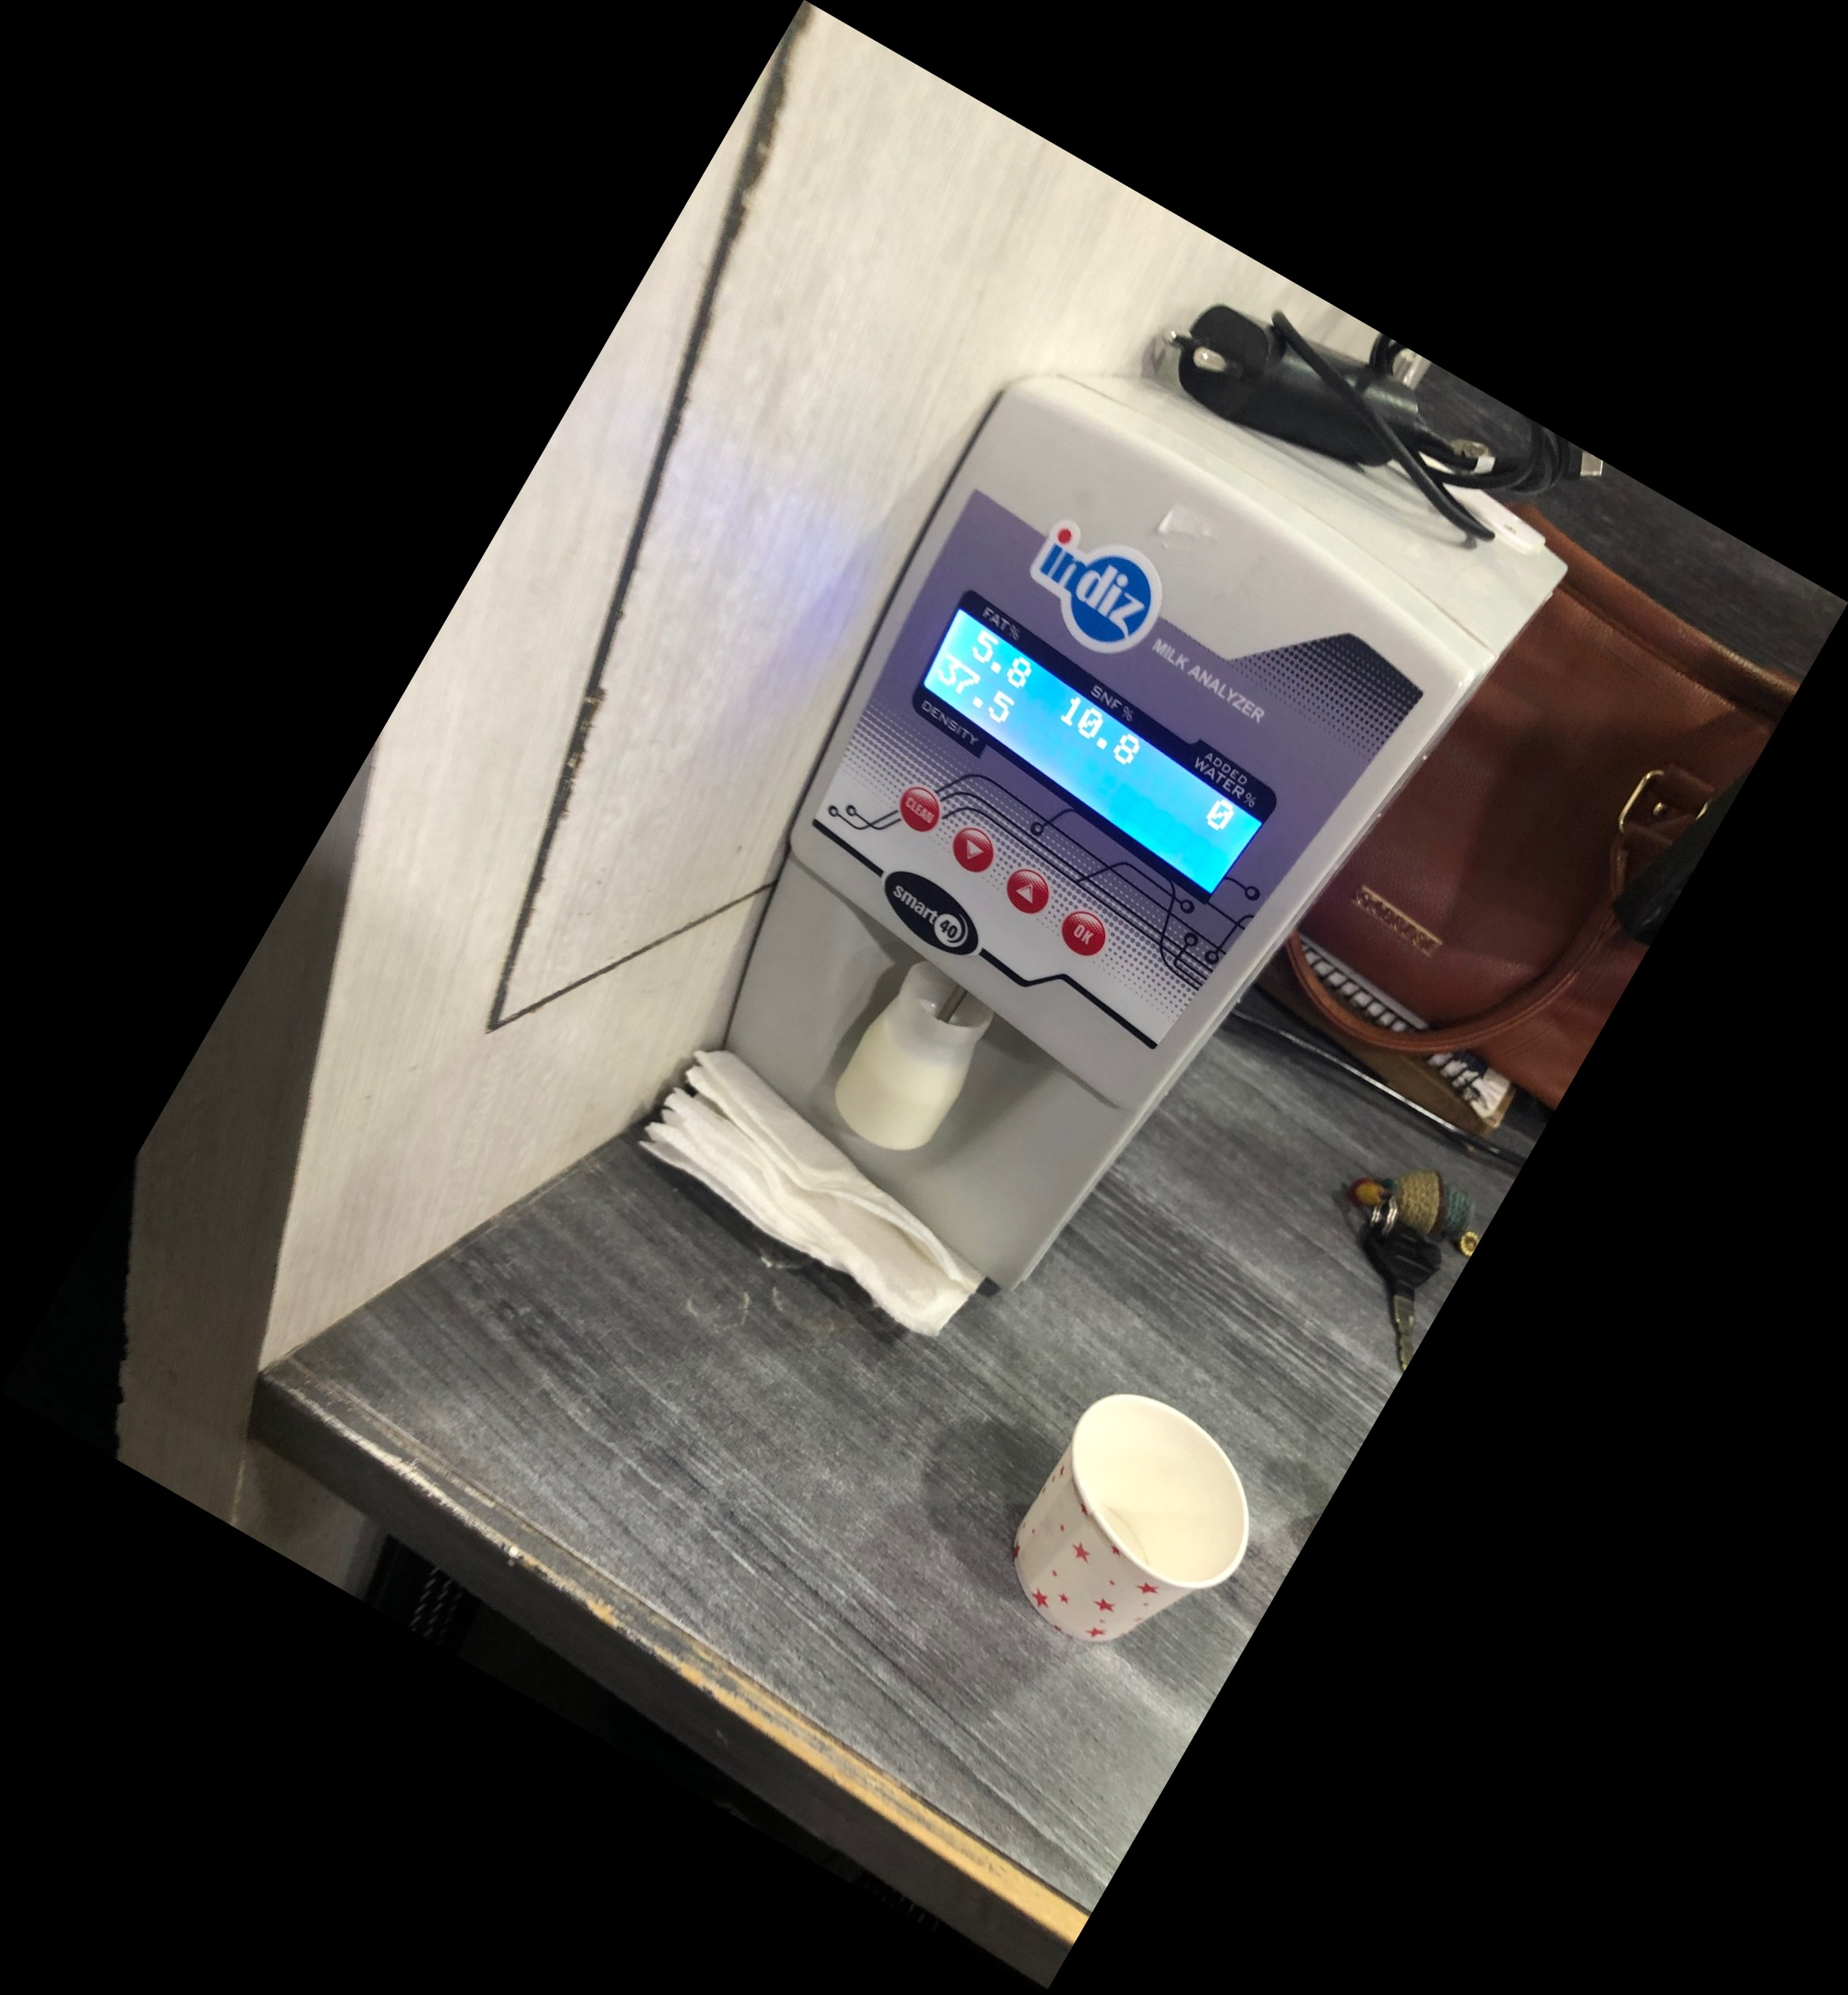lcd: (894, 580, 1284, 937)
